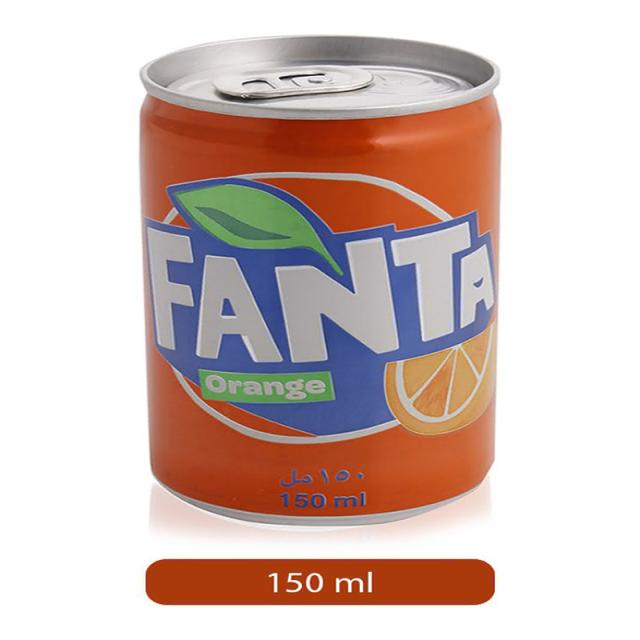fanta: (127, 33, 518, 534)
